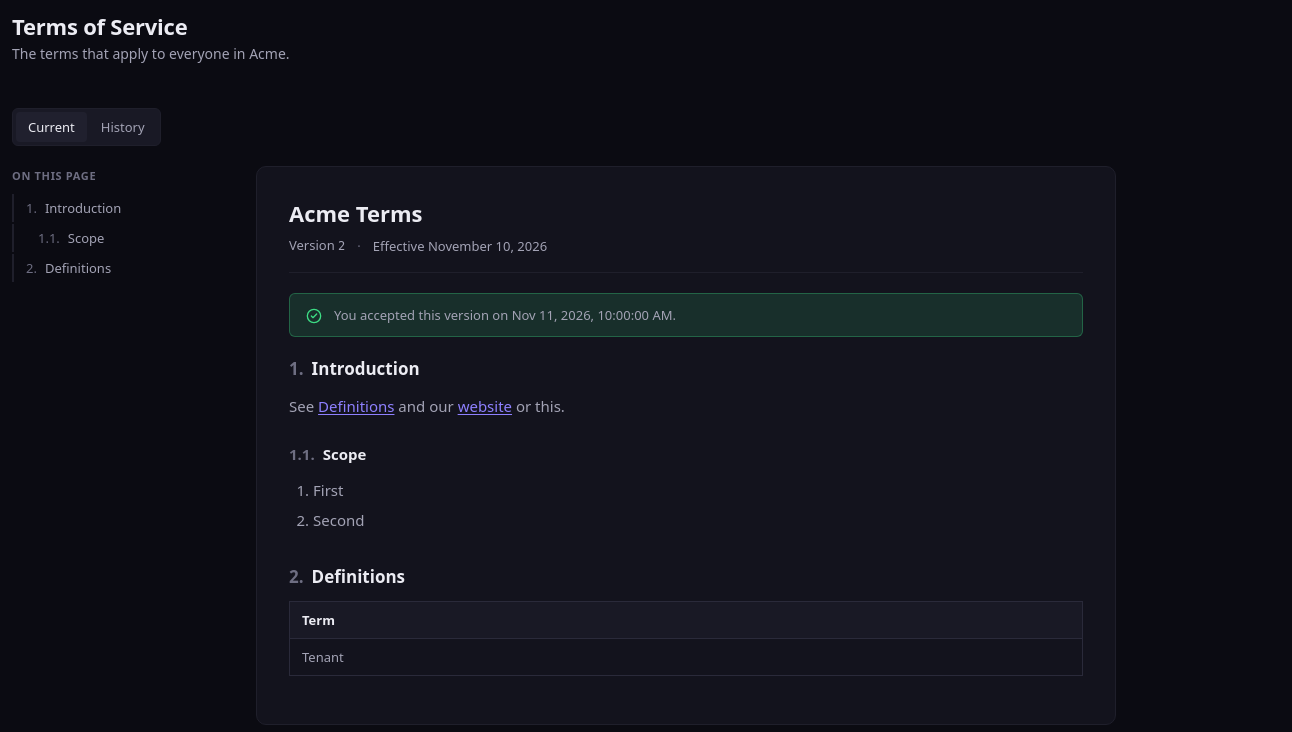
Test: Terms of Service page › members read the current version and the history, nothing else
The width and height of the screenshot is (1292, 732).
Expected: the element "Acme Terms" is shown, [256,166,1116,725]
Expected: the text "You accepted this version on Nov 11, 2026, 10:00:00 AM." is shown, [334,306,676,324]
Click the tab "History" at [123, 127], box [89,112,157,142]
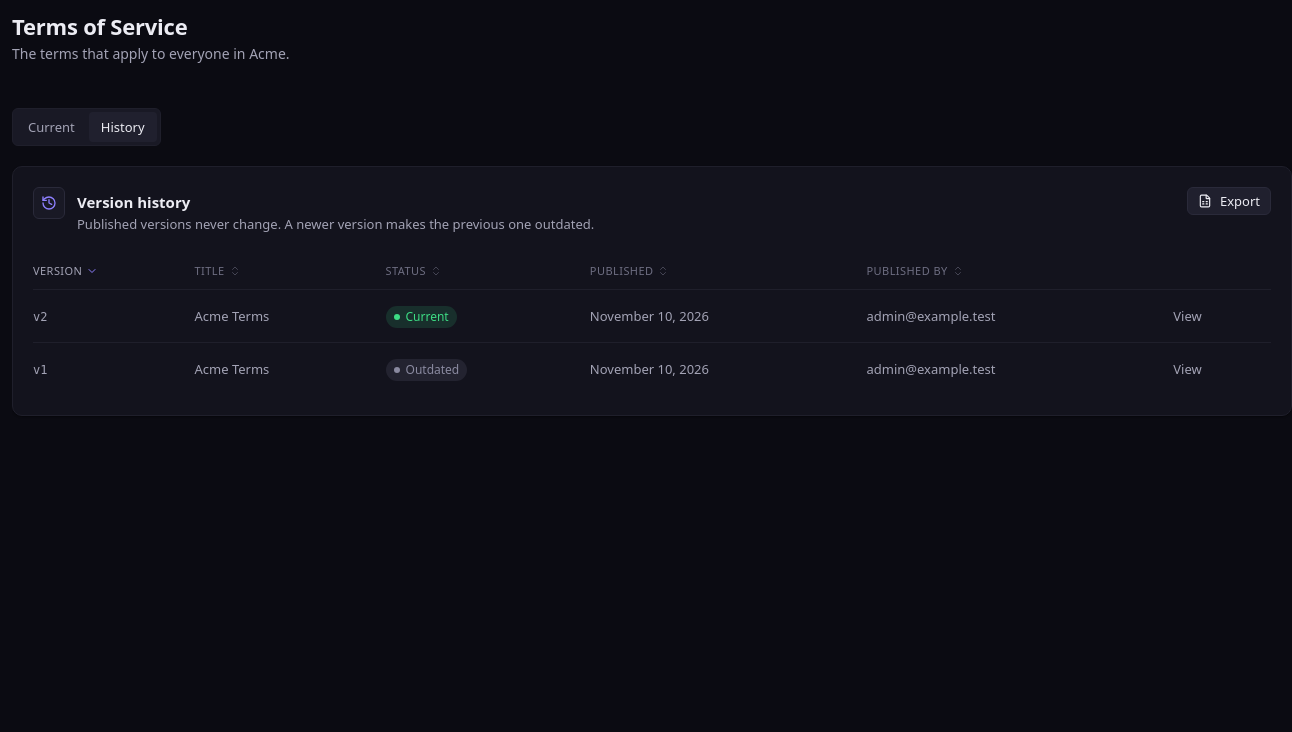
Expected: the text "Outdated" is shown, [386,358,467,380]
